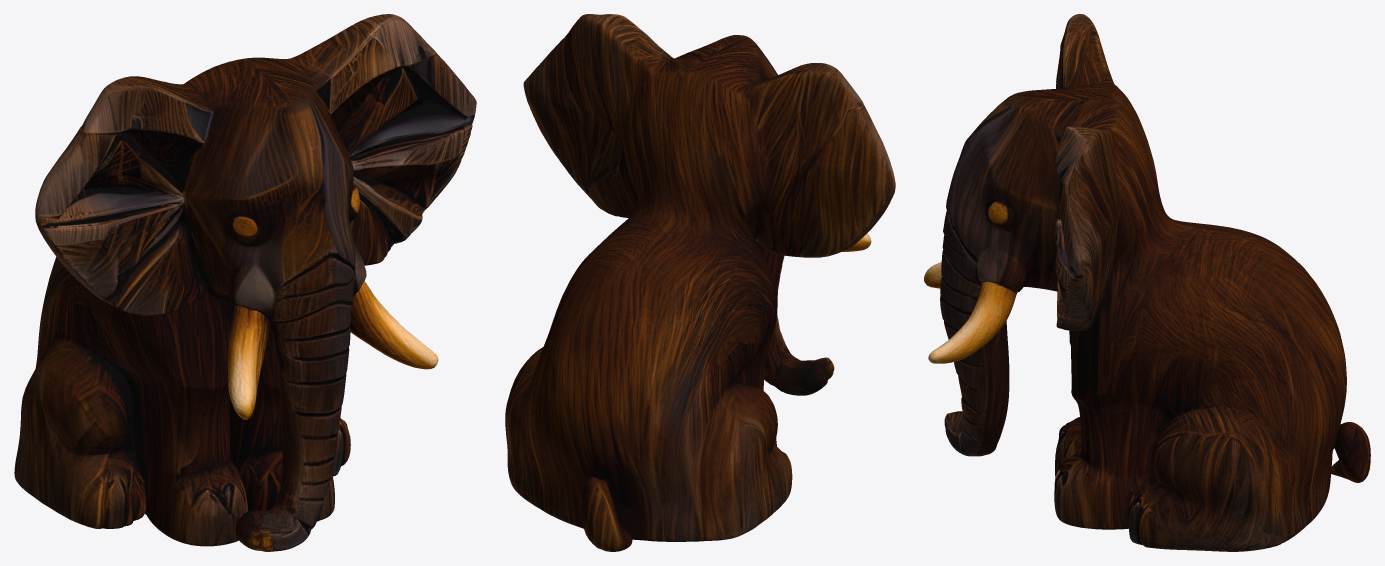
3 renders of one model, left to right at view 1: azimuth 30°, elevation 25°; view 2: azimuth 150°, elevation 25°; view 3: azimuth 270°, elevation 25°, orthographic. The views are drawn at different scales.
Parts seen in each view (by area): view 1: ind32_024_c1_s2026072341.obj; view 2: ind32_024_c1_s2026072341.obj; view 3: ind32_024_c1_s2026072341.obj.
Boxes of the visible parts, x1=… form: ind32_024_c1_s2026072341.obj: x1=14, y1=14, x2=476, y2=551; ind32_024_c1_s2026072341.obj: x1=505, y1=14, x2=895, y2=551; ind32_024_c1_s2026072341.obj: x1=924, y1=14, x2=1370, y2=551.
Bounding box in the file's own units: 1.91 × 1.98 × 1.92.
Materials: 1 (1 with a texture image).
